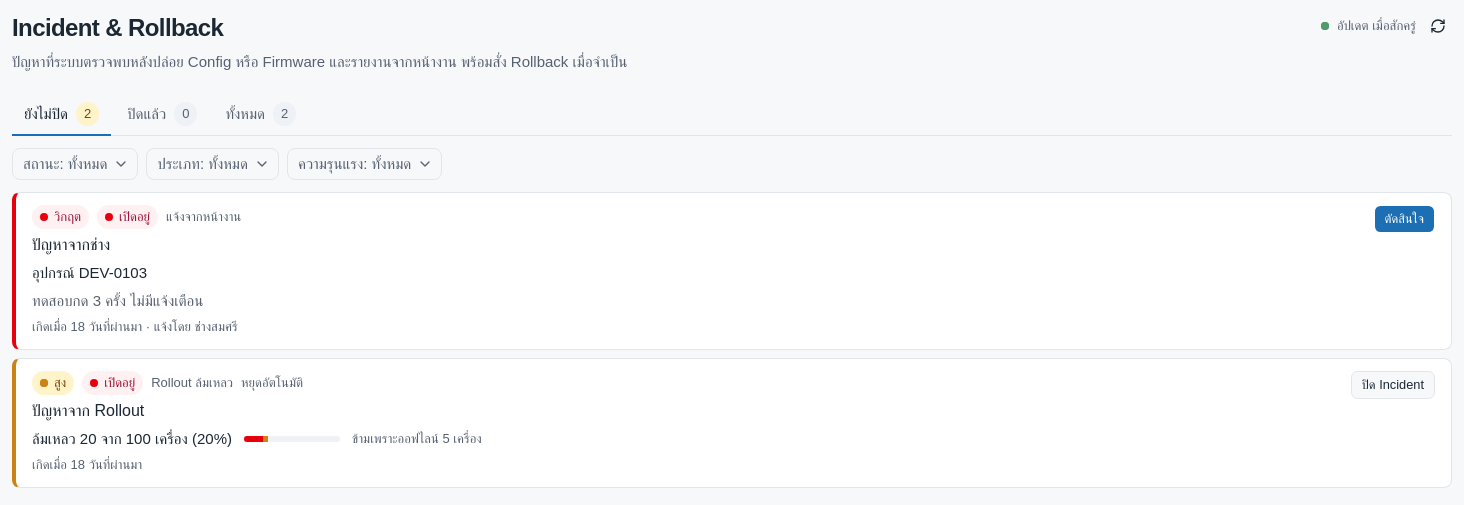
Test: IncidentsView: แยกที่มาและผลกระทบ › กรองตามประเภท: เหลือเฉพาะ Incident ของประเภทที่เลือก
Check: the link "ปัญหาจากช่าง" is shown, box [32, 236, 110, 253]
Check: the link "ปัญหาจาก Rollout" is shown, box [32, 402, 144, 419]
Click the dropdown labelled "ประเภท: ทั้งหมด ▼" at (213,164), box [146, 148, 279, 180]
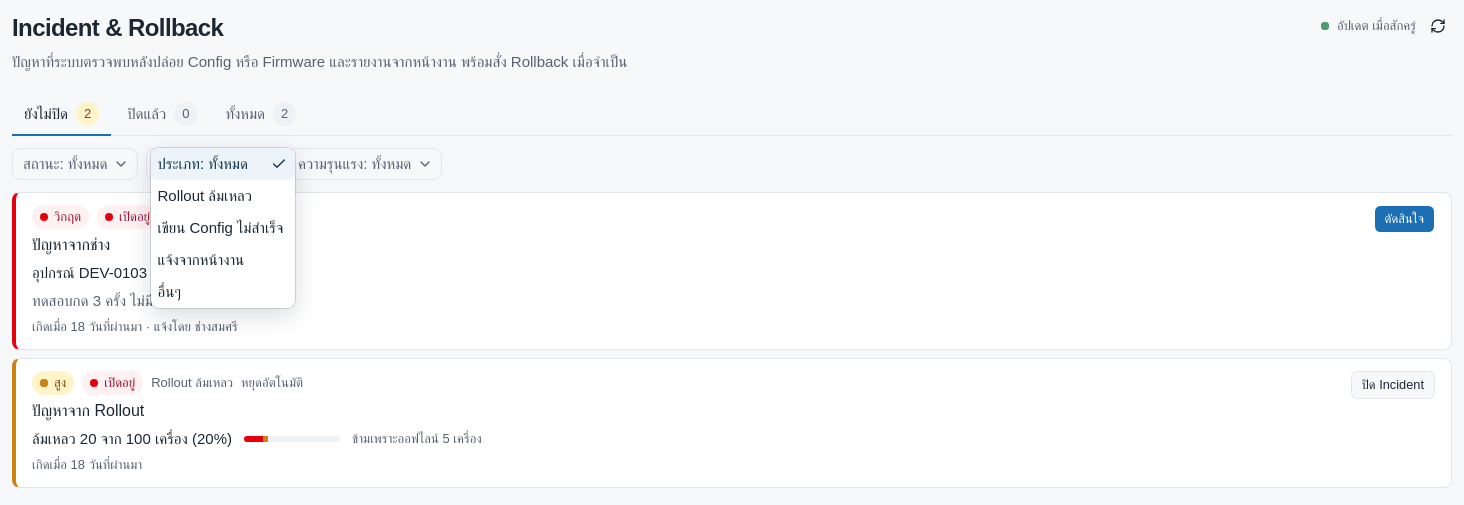
Click the option "Rollout ล้มเหลว" at (205,196), box [158, 187, 252, 204]
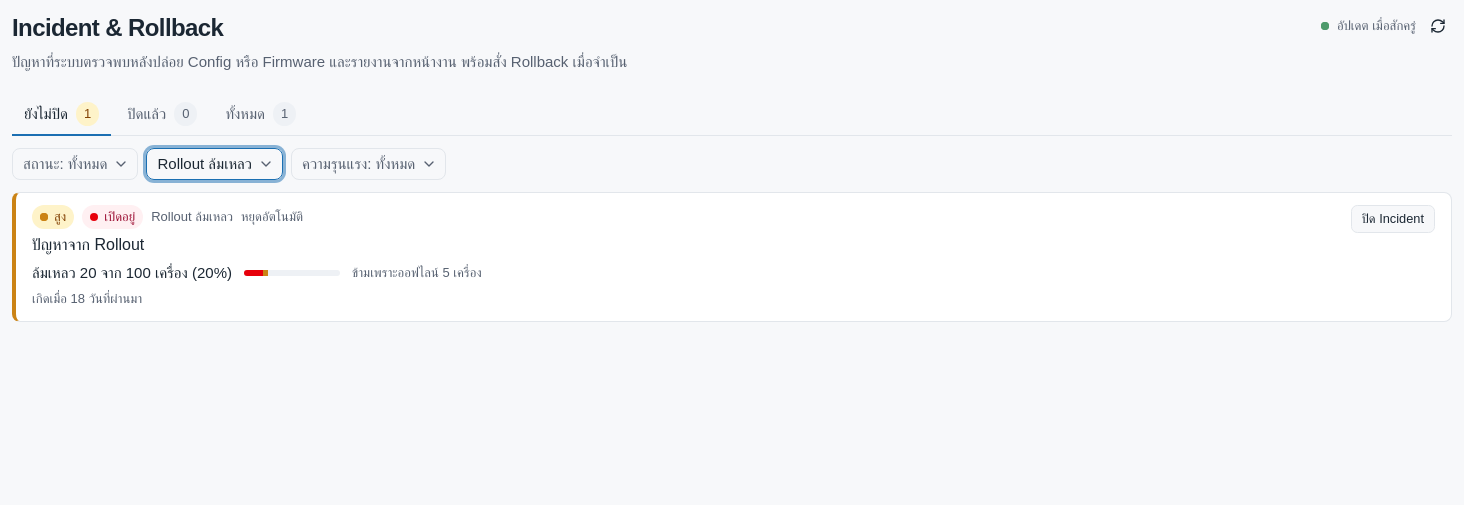
Check: the link "ปัญหาจาก Rollout" is shown, box [32, 236, 144, 253]
Check: the link "ปัญหาจากช่าง" is gone
